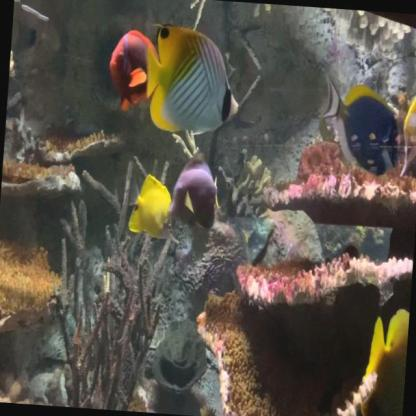fish: (139, 20, 245, 139), (314, 71, 406, 179), (358, 305, 410, 415), (106, 27, 164, 115), (166, 147, 225, 231), (125, 170, 184, 246), (399, 81, 415, 180)
